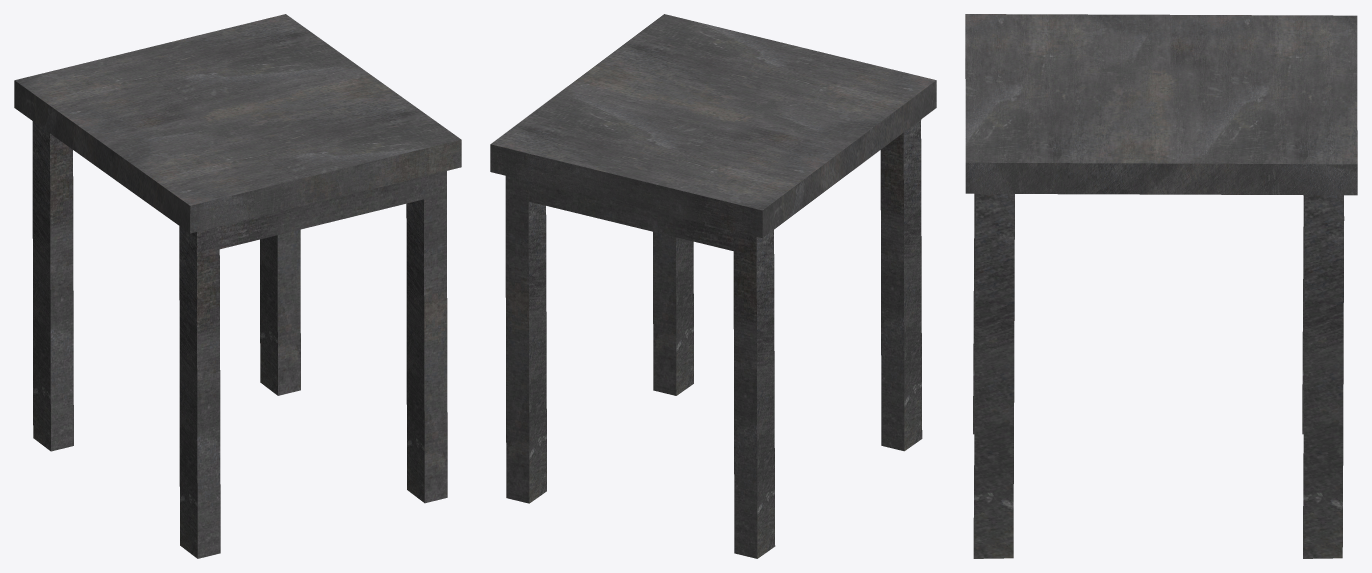
Rendered from Desk.fbx.
3 renders of one model, left to right at view 1: azimuth 30°, elevation 25°; view 2: azimuth 150°, elevation 25°; view 3: azimuth 270°, elevation 25°, orthographic. The views are drawn at different scales.
Visible parts, largest first — view 1: Desk__3_; view 2: Desk__3_; view 3: Desk__3_.
Part boxes in pixels (x1,y1,x2,y2): Desk__3_: (14,14,461,558); Desk__3_: (490,14,936,558); Desk__3_: (965,14,1357,558).
Size of the model in its own units: 115 by 144 by 127.
2 materials, 2 textured.
